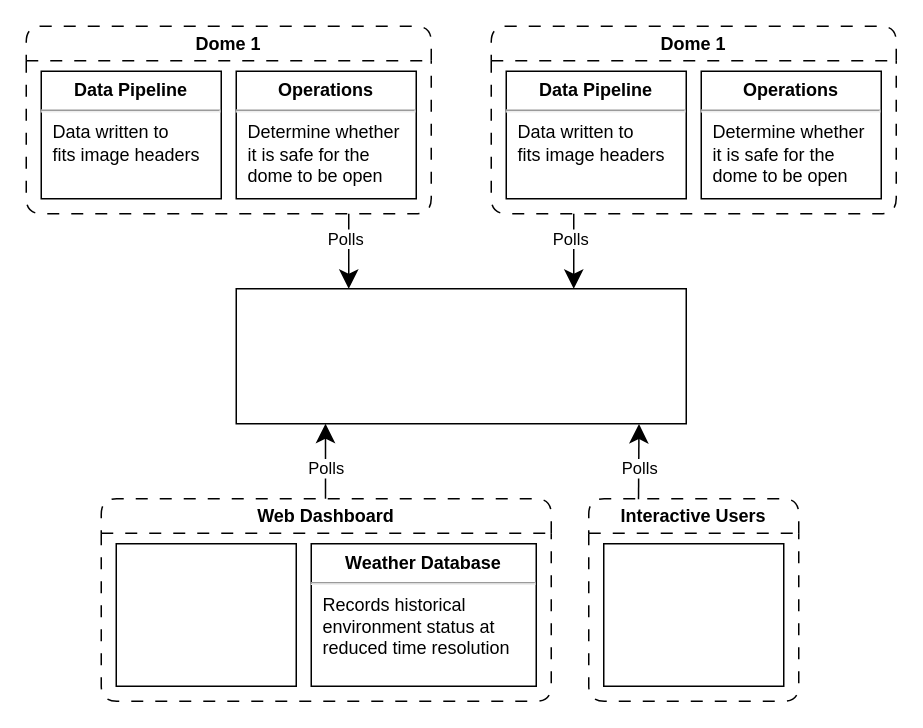
The diagram is 923 pixels wide and 728 high, and some of its shapes have lost their labels. Here are the shapes that lost their labels. From the top down, the centre of each, then its label:
At point (460, 355): "Environment Daemon".
At point (205, 614): "Live Status Reports current environment summary".
At point (693, 614): "Environment Client Reports current environment summary".
